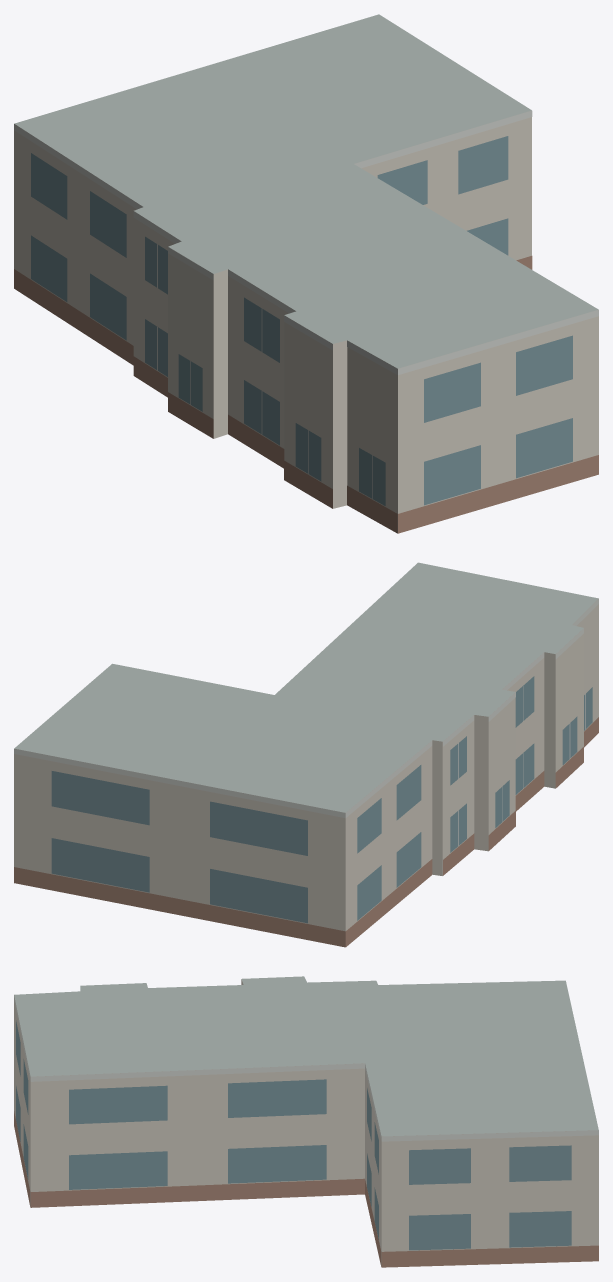
The model's file is survey-upis-32727376.glb.
3 views of the same model, one above another, from view 1: azimuth 30°, elevation 25°; view 2: azimuth 150°, elevation 25°; view 3: azimuth 270°, elevation 25° (orthographic). The views are drawn at different scales.
Parts seen in each view (by area): view 1: survey-upis-32727376.tmp; view 2: survey-upis-32727376.tmp; view 3: survey-upis-32727376.tmp.
Part boxes in pixels (x1,y1,x2,y2): survey-upis-32727376.tmp: [14, 14, 598, 533]; survey-upis-32727376.tmp: [14, 562, 598, 947]; survey-upis-32727376.tmp: [14, 976, 598, 1267].
Bounding box in the file's own units: 15.99 × 6.1 × 24.67.
